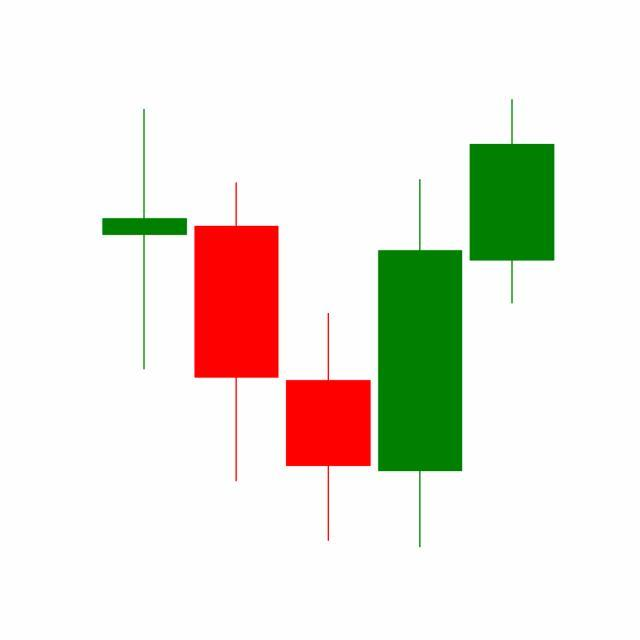Morning Star: (190, 175, 467, 548)
